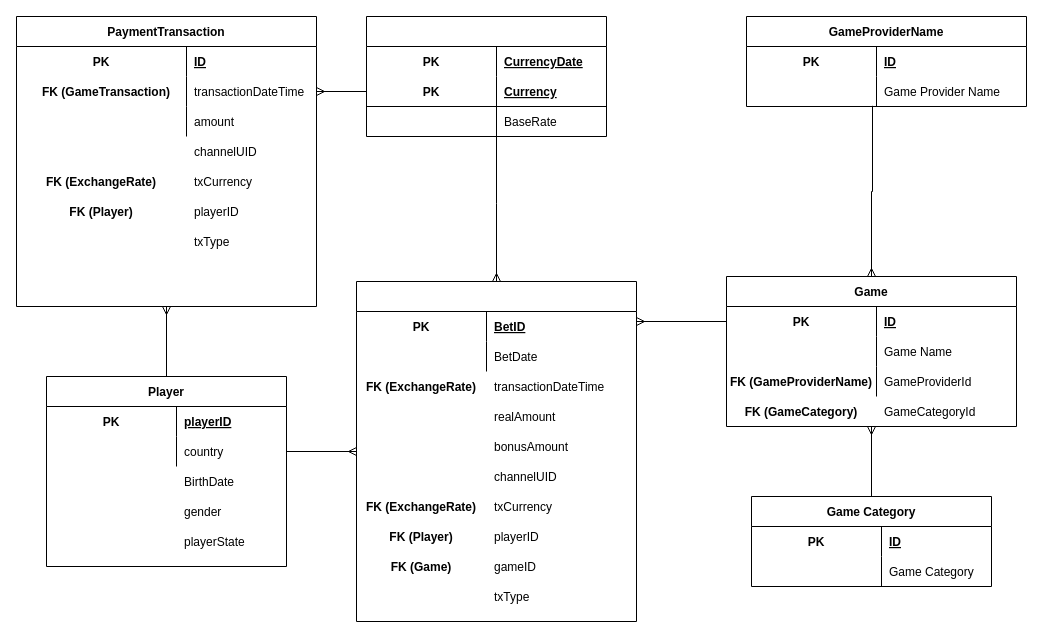
Some shapes in this 1043 by 638 pixel diagram are drawn without their labels. The shapes that lost their labels are listed below. From the top down, each one's box as (x1, y1, x2, y2) in pixels, then its label:
(366, 16, 606, 136): ExchangeRate
(356, 280, 636, 622): GameTransaction
